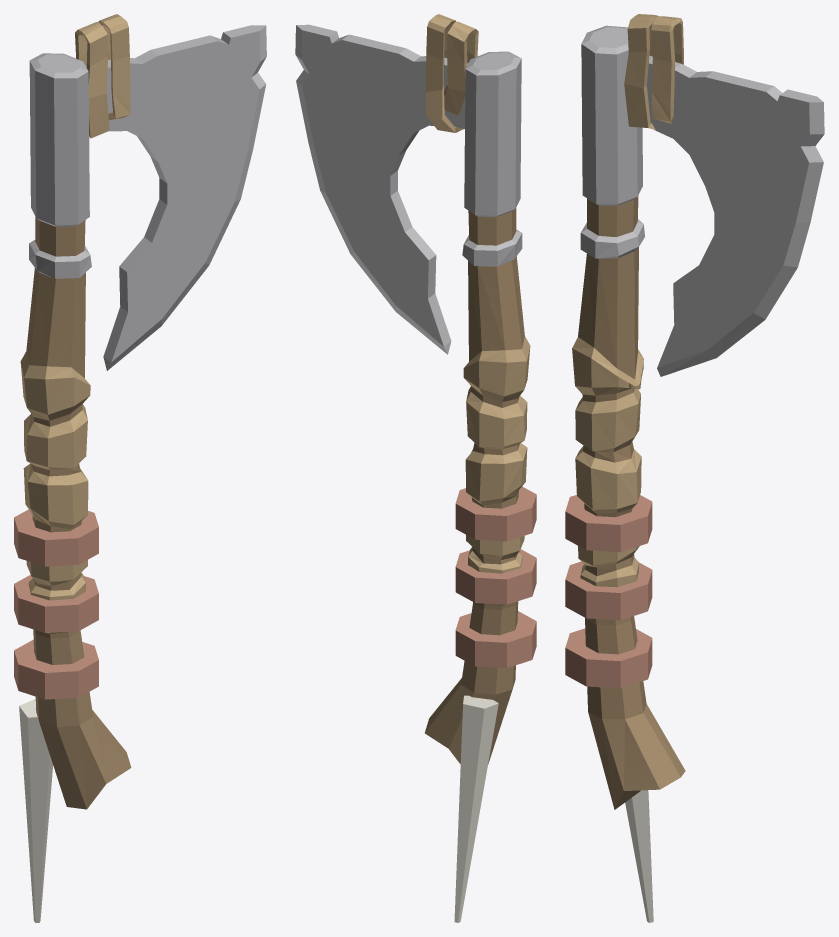
The model's file is tomahawk.glb.
3 views of the same model, side by side, from view 1: azimuth 30°, elevation 25°; view 2: azimuth 150°, elevation 25°; view 3: azimuth 330°, elevation 25° (orthographic). The views are drawn at different scales.
Visible parts, largest first — view 1: tomahawk; view 2: tomahawk; view 3: tomahawk.
Boxes of the visible parts, x1,y1,x2,y2 form: tomahawk: (14, 14, 266, 922); tomahawk: (295, 14, 536, 922); tomahawk: (565, 14, 824, 922).
Size of the model in its own units: 0.9786 by 3.44 by 0.3651.
